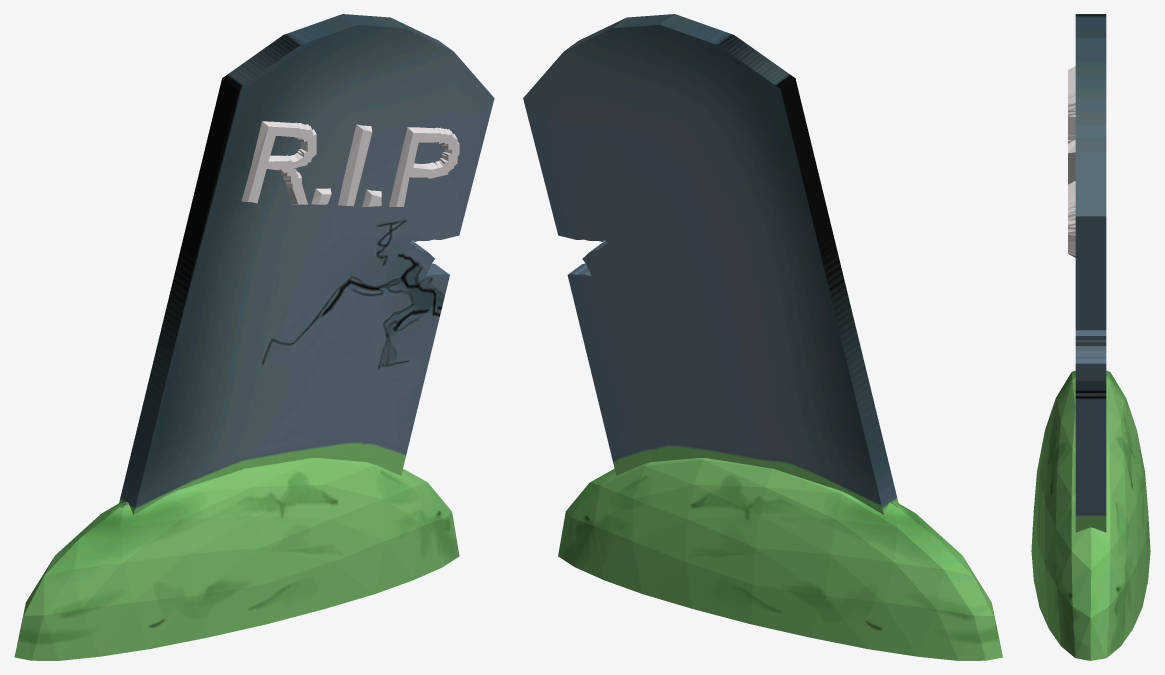
Rendered from Grave.glb.
3 renders of one model, left to right at view 1: azimuth 30°, elevation 25°; view 2: azimuth 150°, elevation 25°; view 3: azimuth 270°, elevation 25°, orthographic. The views are drawn at different scales.
Visible parts, largest first — view 1: Grave; view 2: Grave; view 3: Grave.
Part boxes in pixels (x1,y1,x2,y2): Grave: (14,14,494,660); Grave: (523,14,1002,660); Grave: (1031,14,1150,660).
Bounding box in the file's own units: 175 × 197 × 37.4.
1 material, 1 textured.
